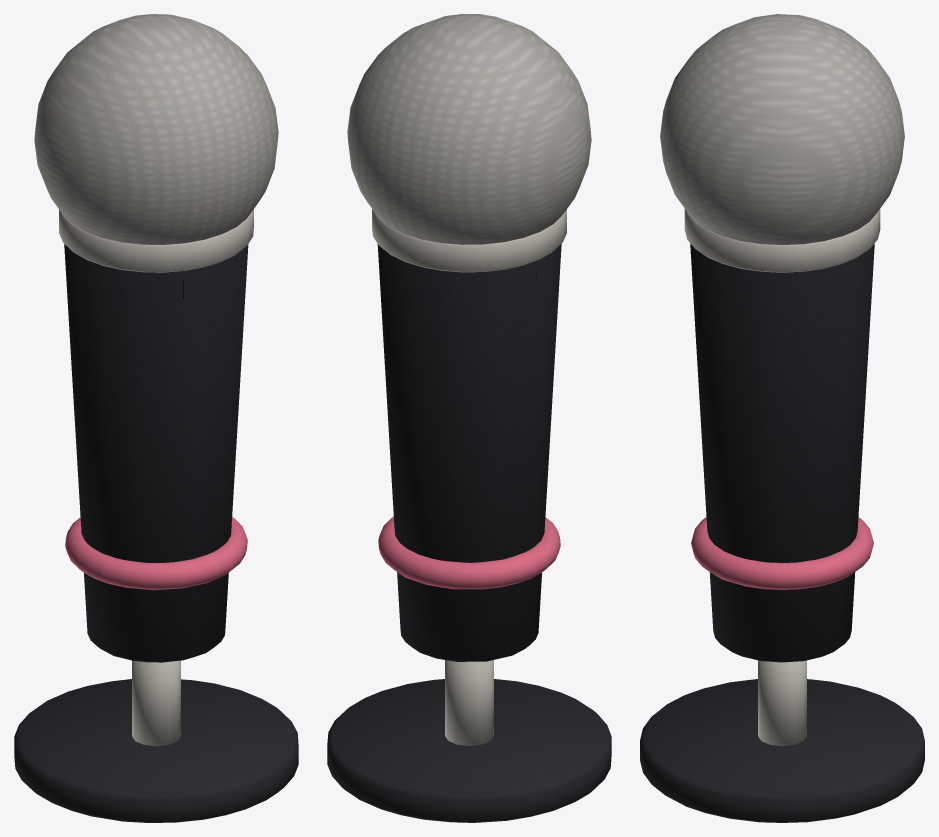
Rendered from keepsake-mc-mic.glb.
The picture shows the model from 3 angles, left to right: view 1: azimuth 30°, elevation 25°; view 2: azimuth 150°, elevation 25°; view 3: azimuth 270°, elevation 25°; orthographic projection.
Parts seen in each view (by area): view 1: keepsake-mc-mic; view 2: keepsake-mc-mic; view 3: keepsake-mc-mic.
Boxes of the visible parts, left/top/right/bottom form: keepsake-mc-mic: left=14, top=14, right=298, bottom=822; keepsake-mc-mic: left=327, top=14, right=611, bottom=822; keepsake-mc-mic: left=640, top=14, right=924, bottom=822.
Size of the model in its own units: 0.0698 by 0.2 by 0.0698.
Materials: 1 (1 with a texture image).
